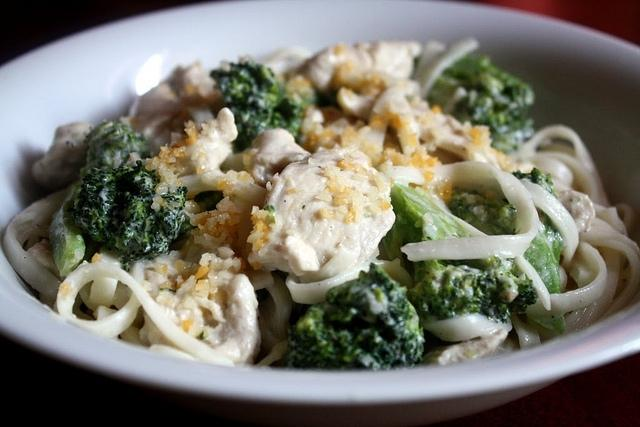broccoli: (378, 185, 538, 322), (284, 262, 426, 370), (68, 160, 198, 272), (448, 193, 564, 294), (428, 53, 536, 152), (210, 60, 314, 153)
